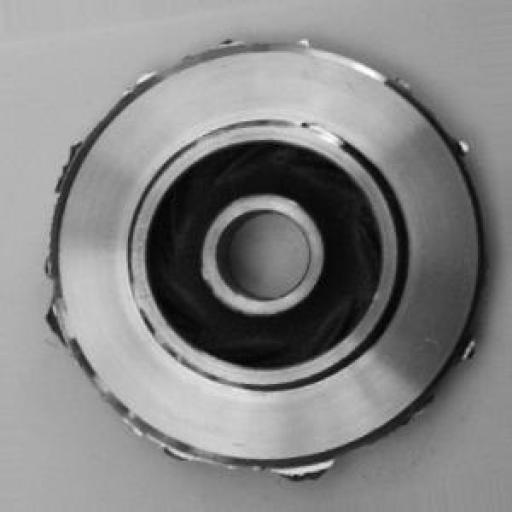defect: (30, 25, 500, 492)
